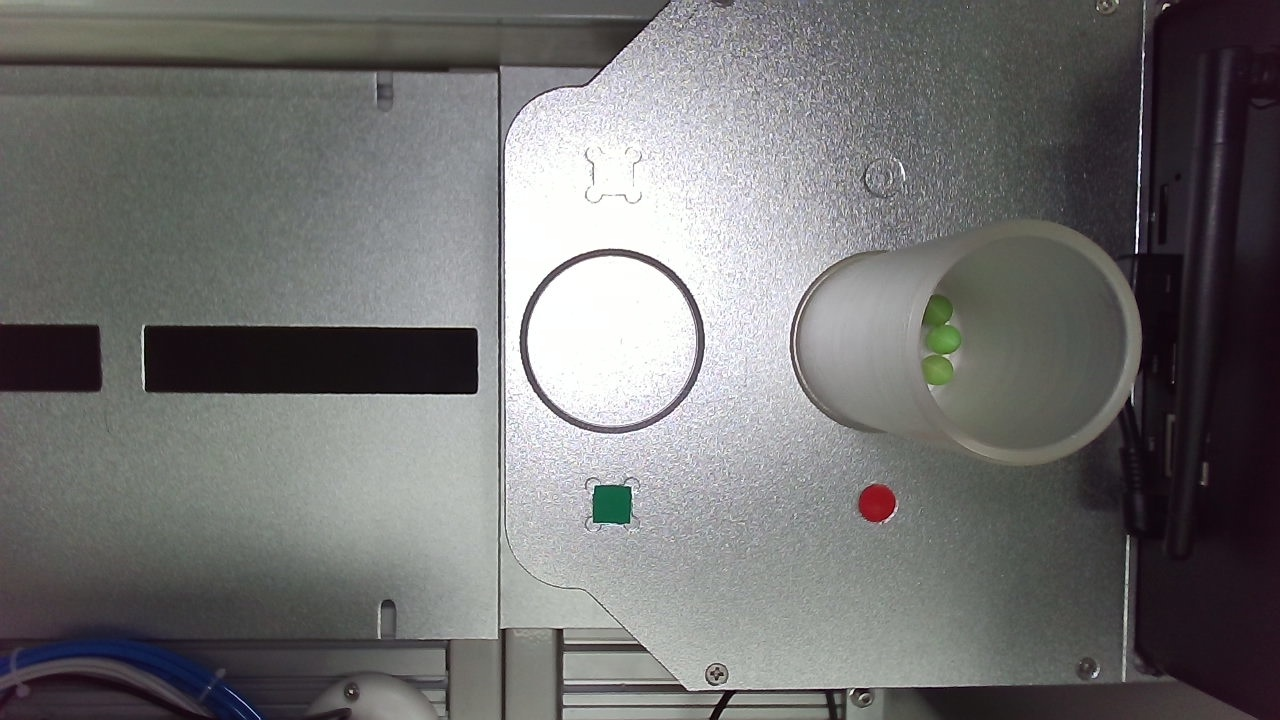XLabel: (492, 273, 558, 339)
YLabel: (925, 319, 998, 392)
none: (326, 410, 655, 720), (783, 457, 1101, 720)
